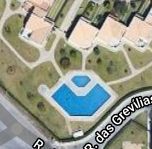pool: (62, 77, 100, 115)
